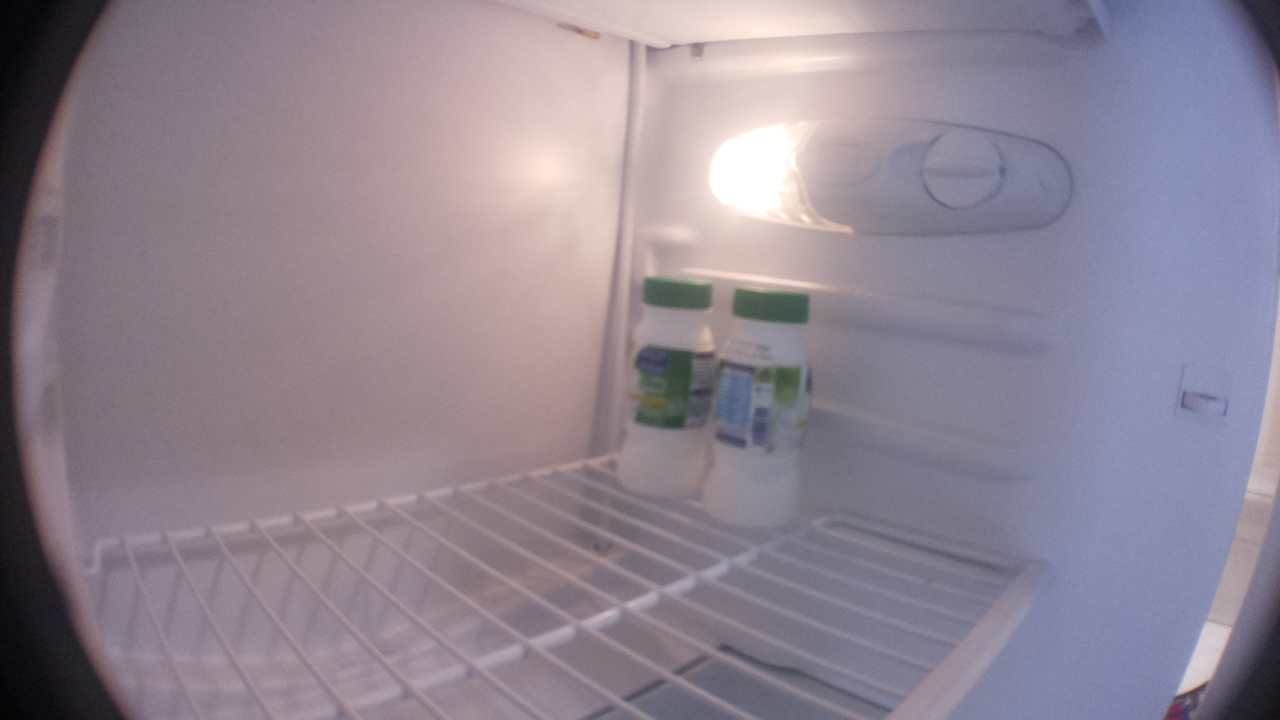laban: (698, 287, 814, 525), (607, 276, 715, 499)
